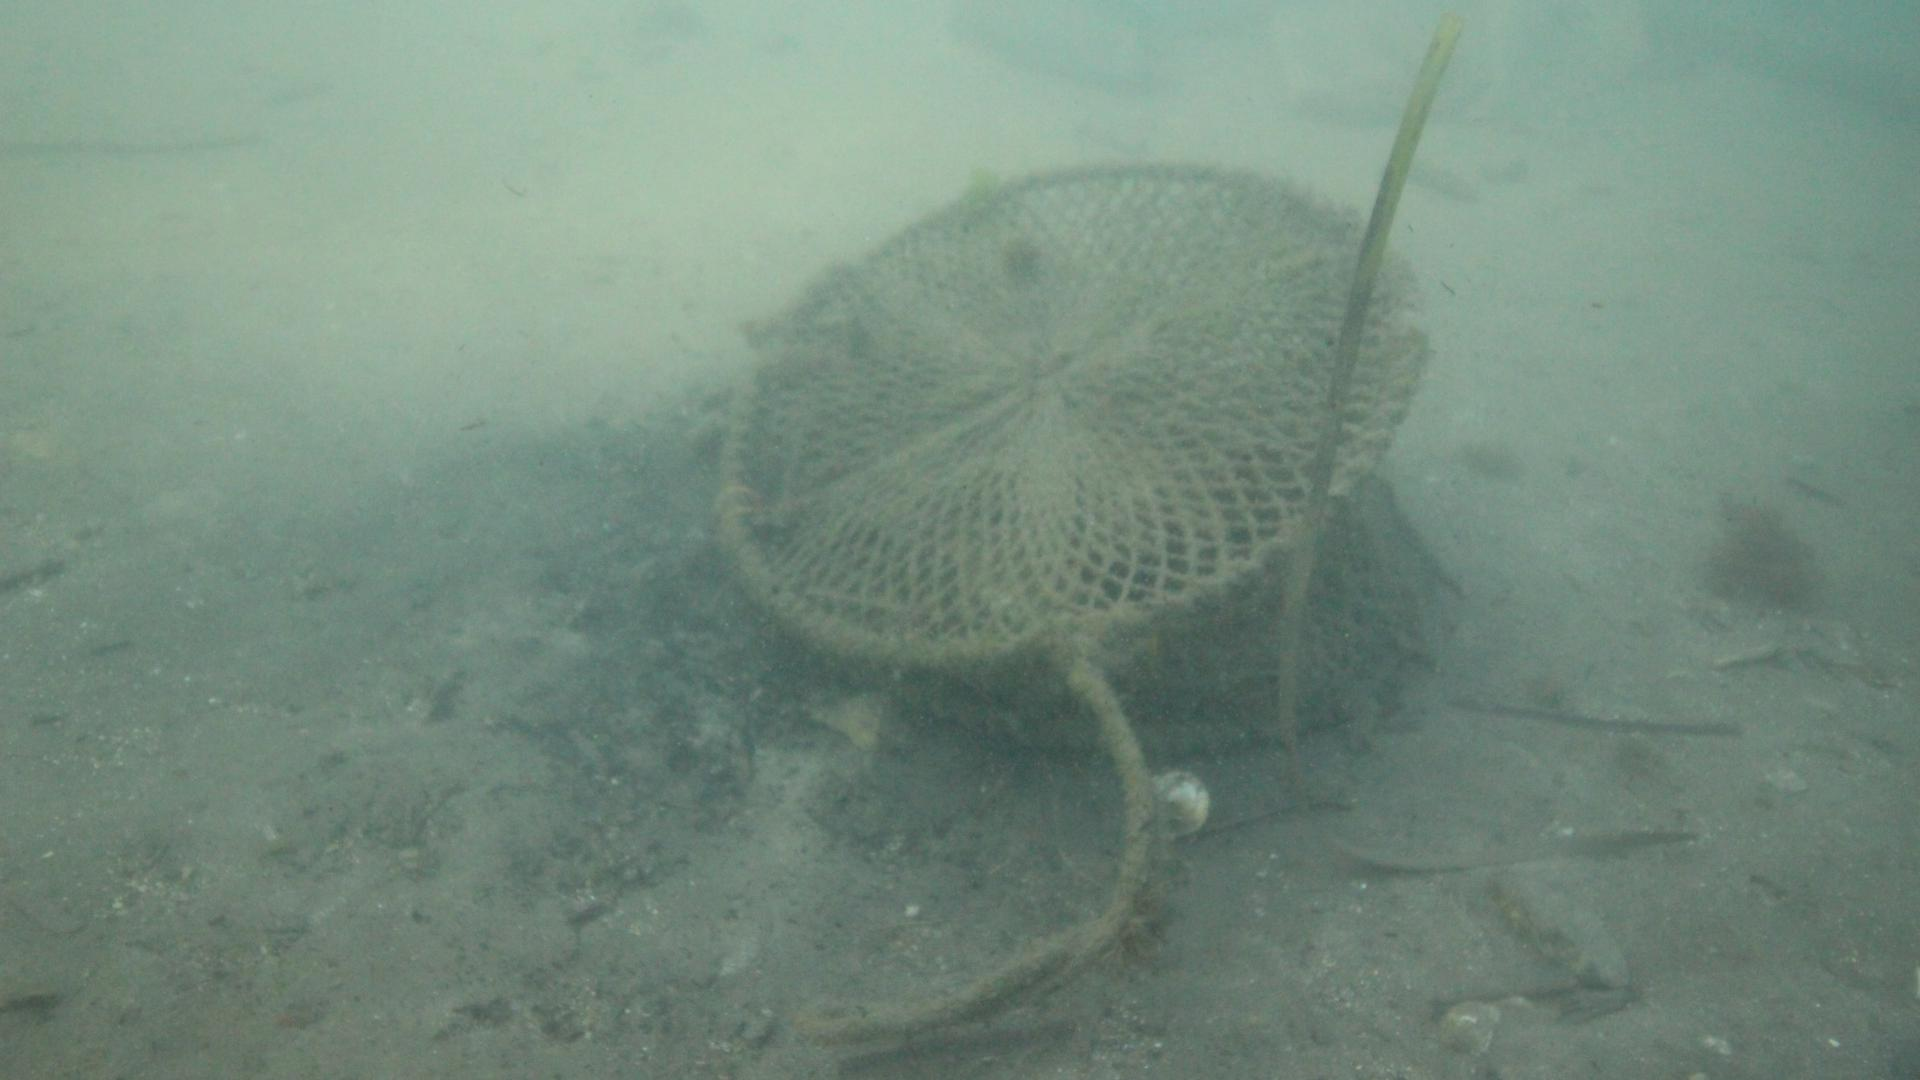circular fish trap: (707, 156, 1435, 758)
rope: (800, 653, 1158, 1044)
